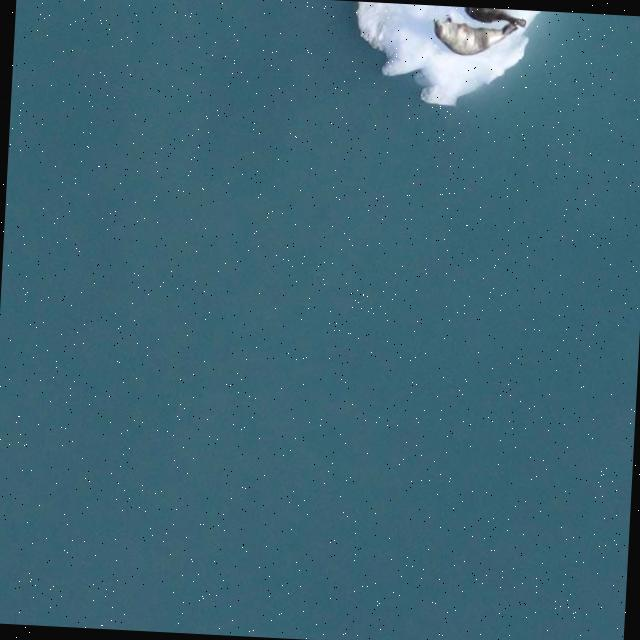seal: (433, 16, 526, 58), (464, 8, 522, 22)
